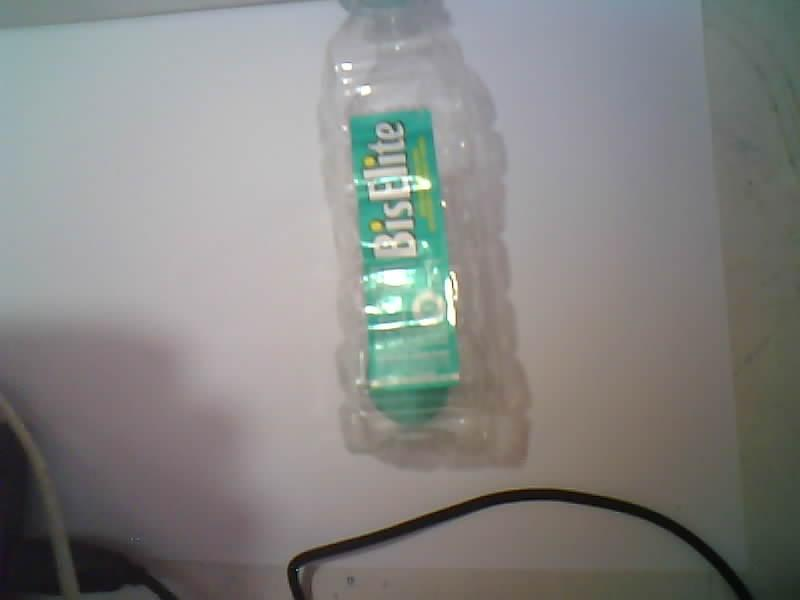non-biodegradable: (298, 0, 525, 463)
